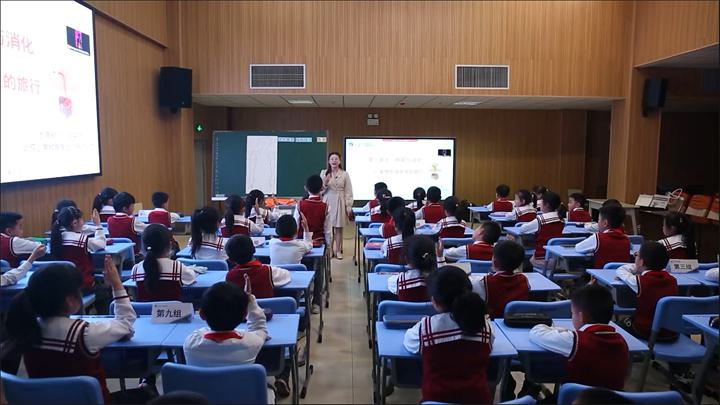hands-up: (26, 258, 130, 376), (540, 272, 630, 382), (186, 271, 270, 374), (48, 205, 107, 263), (486, 229, 528, 303), (396, 236, 444, 285), (274, 213, 318, 261), (221, 195, 264, 240), (251, 189, 279, 222)
listen: (401, 265, 493, 397), (628, 238, 684, 331), (530, 193, 566, 259), (438, 198, 480, 246), (506, 188, 537, 226), (383, 193, 408, 236), (419, 185, 443, 224), (565, 189, 590, 225), (488, 183, 510, 213), (376, 189, 392, 219)
stand: (293, 171, 337, 252)
